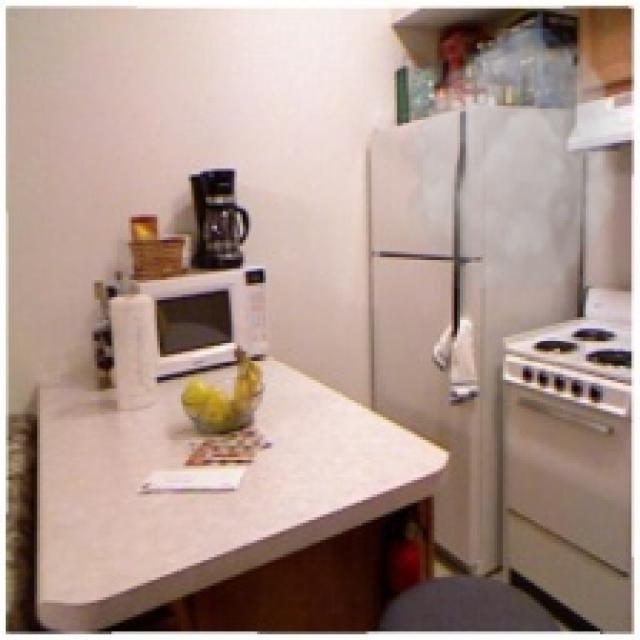Smoke: (397, 28, 634, 288)
